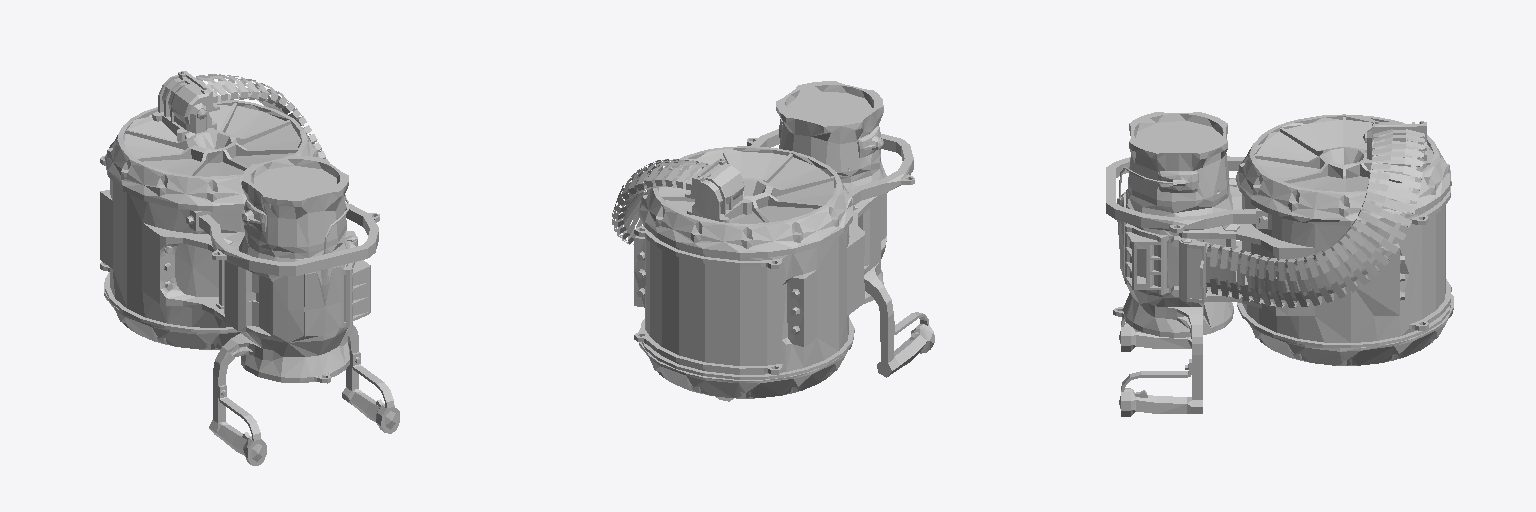
Rendered from MinigunBaseFixed.obj.
3 views of the same model, side by side, from view 1: azimuth 30°, elevation 25°; view 2: azimuth 150°, elevation 25°; view 3: azimuth 270°, elevation 25° (orthographic).
Visible parts, largest first — view 1: Minigun001:0, Minigun_AmmoDrum:0; view 2: Minigun001:0, Minigun_AmmoDrum:0; view 3: Minigun001:0, Minigun_AmmoDrum:0.
Boxes of the visible parts, box(x1,y1,x2,y2) form: Minigun001:0: box(100, 71, 399, 465); Minigun_AmmoDrum:0: box(104, 282, 240, 349); Minigun001:0: box(612, 81, 934, 379); Minigun_AmmoDrum:0: box(639, 330, 851, 401); Minigun001:0: box(1106, 112, 1451, 416); Minigun_AmmoDrum:0: box(1248, 294, 1453, 365).
Bounding box in the file's own units: 32.28 × 39.34 × 46.65.